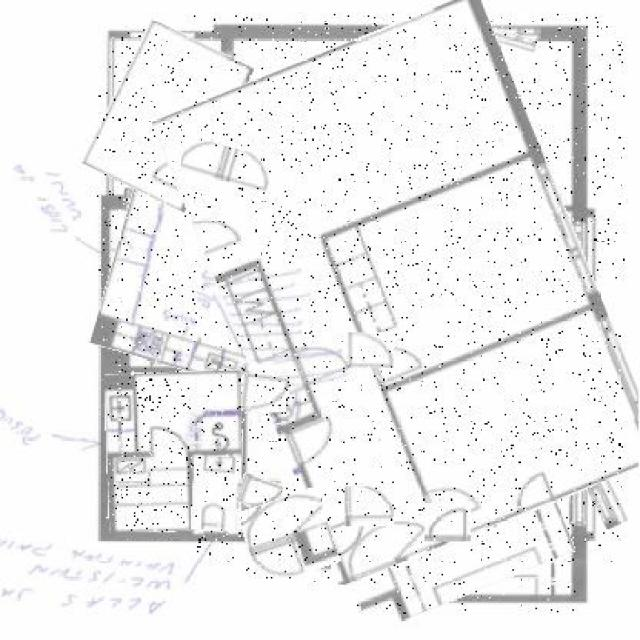door: (193, 14, 624, 561), (342, 354, 584, 552), (346, 203, 579, 375), (98, 200, 282, 378), (97, 28, 240, 204), (106, 371, 245, 532), (351, 517, 575, 614), (192, 457, 242, 531)
window: (243, 491, 335, 582), (180, 142, 274, 186), (344, 486, 394, 526), (424, 503, 470, 542), (243, 374, 289, 412), (348, 332, 394, 368), (238, 475, 284, 511)
zone: (557, 382, 614, 530), (556, 219, 610, 363), (456, 25, 538, 46), (123, 192, 209, 211)
